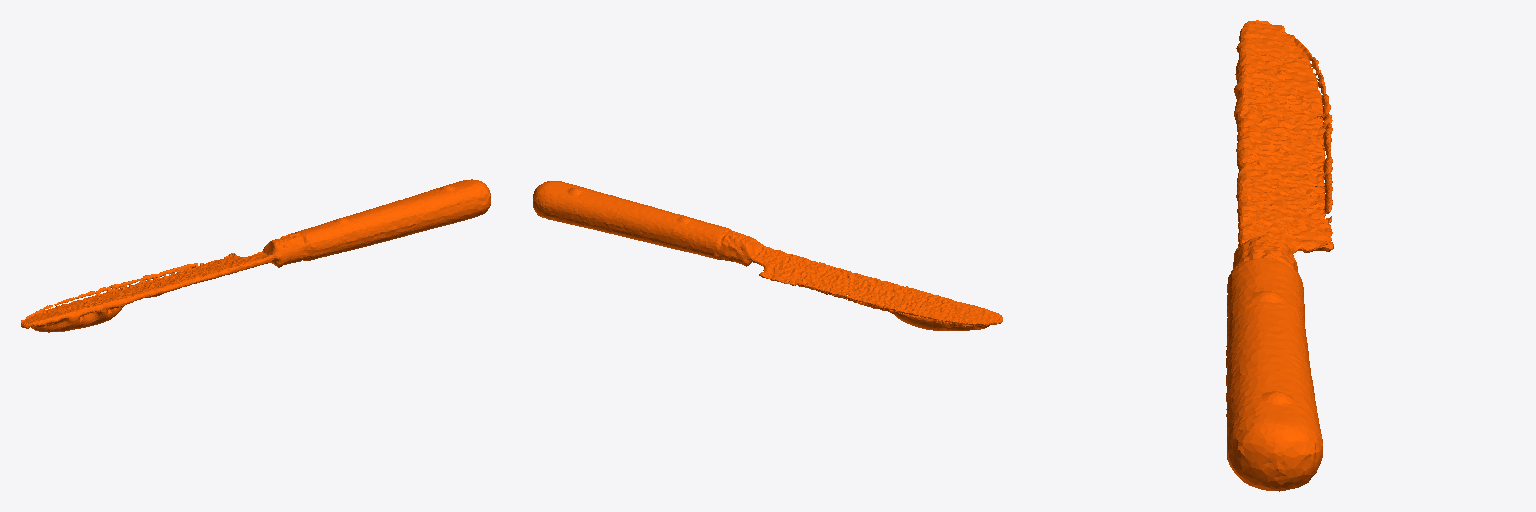
URDF robot description (032_knife):
<?xml version="1.0" ?>
<robot name="032_knife">
   <material name="obj_color">
      <color rgba="1.0 0.423529411765 0.0392156862745 1.0"/>
   </material>
   <link name="top">
      <inertial>
         <origin rpy="1.14048369818328e-06 0.0001605414417631475 0.0001608800478190475" xyz="0.04524374497603969 -0.002108551260002349 0.001592855684678626"/>
         <mass value="0.04279753307770775"/>
         <inertia ixx="1.550246454308075e-06" ixy="7.825651219067954e-07" ixz="-8.04124791051044e-06" iyy="0.0001605534072738002" iyz="1.111207092240562e-07" izz="0.00016045831955227"/>
      </inertial>
      <visual>
         <origin rpy="0 0 0" xyz="0 0 0"/>
         <geometry>
            <mesh filename="top_watertight_tiny.stl" scale="1 1 1"/>
         </geometry>
         <material name="obj_color"/>
      </visual>
      <collision>
         <origin rpy="0 0 0" xyz="0 0 0"/>
         <geometry>
            <mesh filename="top_watertight_tiny.obj" scale="1 1 1"/>
         </geometry>
      </collision>
   </link>
   <link name="bottom">
      <inertial>
         <origin rpy="1.633333333199431e-08 1.633333333199431e-08 1.633333333362855e-08" xyz="0.3464080000000008 0.3464080000000008 0.3464080000000008"/>
         <mass value="0.0009800000000000017"/>
         <inertia ixx="1.633333333253906e-08" ixy="5.447480642029219e-19" ixz="5.447480642029219e-19" iyy="1.633333333253906e-08" iyz="5.447480642029219e-19" izz="1.633333333253906e-08"/>
      </inertial>
      <visual>
         <origin rpy="0 0 0" xyz="0 0 0"/>
         <geometry>
            <mesh filename="bottom_watertight_tiny.stl" scale="1 1 1"/>
         </geometry>
         <material name="obj_color"/>
      </visual>
   </link>
   <link name="world"/>
   <joint name="world_to_base" type="fixed">
      <origin xyz="0 0 0"/>
      <axis xyz="0 0 0"/>
      <parent link="world"/>
      <child link="bottom"/>
   </joint>
   <joint name="rotation" type="revolute">
      <origin xyz="0 0 0"/>
      <axis xyz="0 0 -1"/>
      <parent link="bottom"/>
      <child link="top"/>
      <dynamics damping="1.0" friction="1.0"/>
      <limit effort="0.1" velocity="0.1" lower="0" upper="0.001"/>
   </joint>
</robot>

--- Render facts (derived) ---
The picture shows the robot from 3 angles, left to right: view 1: azimuth 30°, elevation 25°; view 2: azimuth 150°, elevation 25°; view 3: azimuth 270°, elevation 25°; orthographic projection.
Model 032_knife with 3 links and 2 joints (1 revolute, 1 fixed), rooted at world, posed every joint at zero.
Visible links, largest first — view 1: top; view 2: top; view 3: top.
Link boxes in pixels (box(x1,y1,x2,y2)): top: box(21, 179, 490, 332); top: box(533, 181, 1002, 330); top: box(1226, 20, 1333, 491).
Bounding box of the posed robot: 0.2148 × 0.0206 × 0.0226 m (x, y, z).
1 mesh visuals loaded from 2 distinct referenced files (1 binary STL); not drawn: 1 (reference not matched to a file when rendering).
